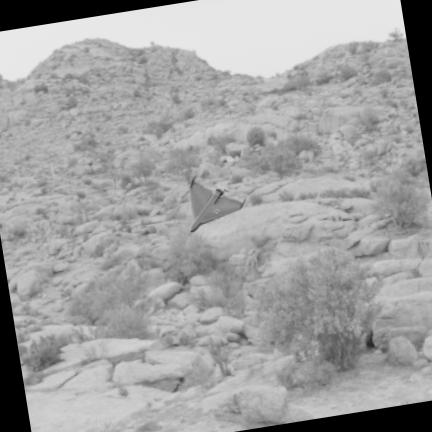Shahed: (189, 176, 243, 232)
